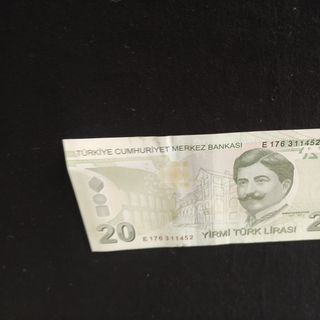20TLBack: (62, 125, 320, 253)
